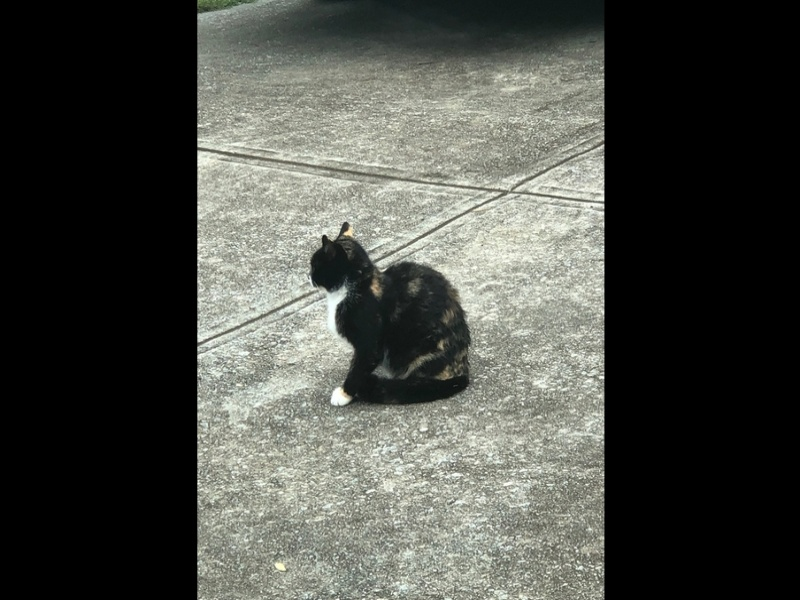cat: (306, 221, 477, 411)
